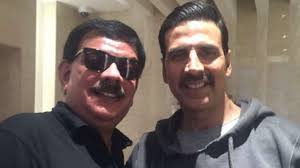Bad: (1, 1, 299, 168)
